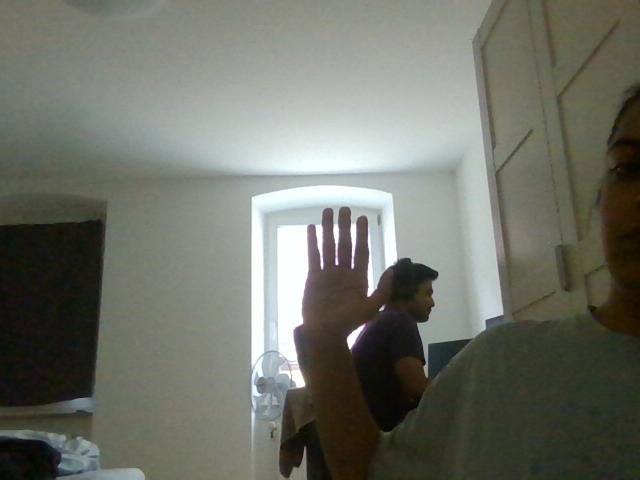Palm: (285, 195, 403, 338)
